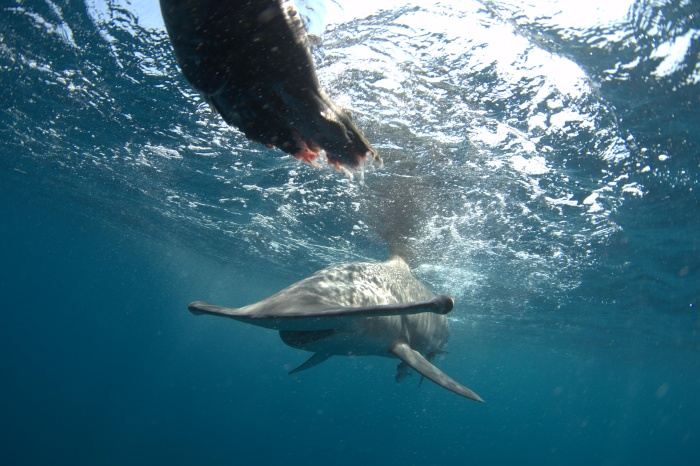Hammer: (169, 209, 522, 419)
